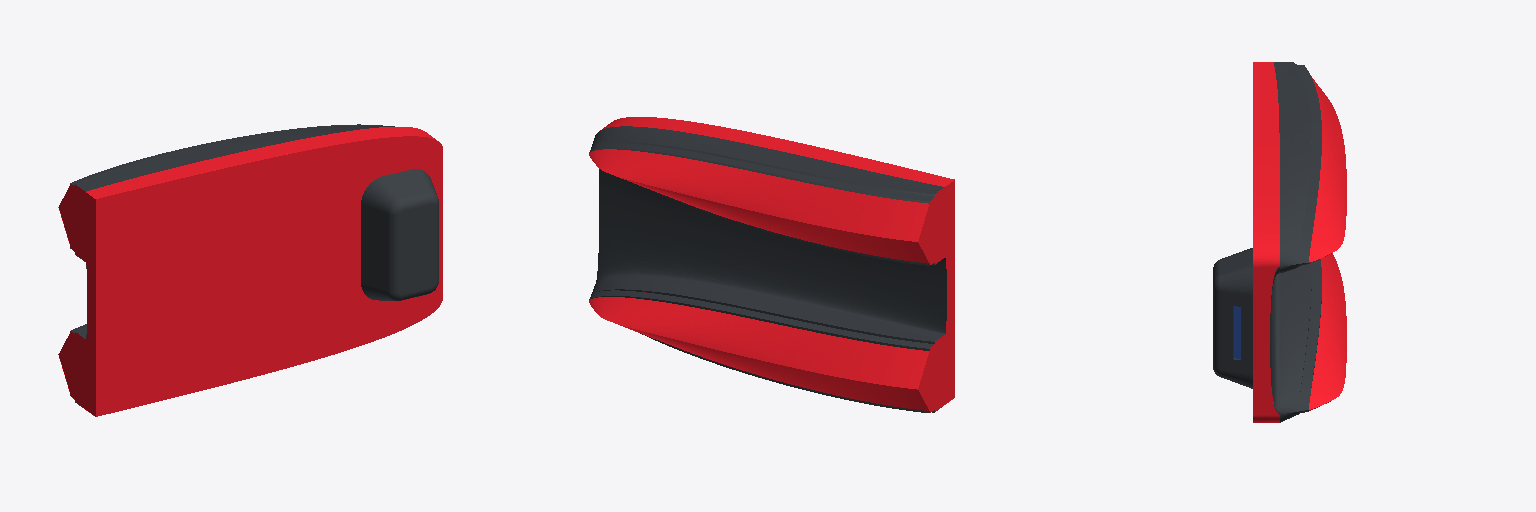
The model's file is USV.obj.
3 views of the same model, side by side, from view 1: azimuth 30°, elevation 25°; view 2: azimuth 150°, elevation 25°; view 3: azimuth 270°, elevation 25° (orthographic).
Visible parts, largest first — view 1: mesh24, mesh46, mesh41, mesh48, mesh9, mesh43, mesh45, mesh7, mesh8, mesh6, mesh0; view 2: mesh34, mesh31, mesh29, mesh35, mesh48, mesh28, mesh27, mesh50, mesh41, mesh43, mesh45, mesh30 (+7 smaller); view 3: mesh48, mesh41, mesh31, mesh29, mesh28, mesh17, mesh30, mesh39, mesh44, mesh47, mesh34, mesh1 (+1 smaller).
Boxes of the visible parts, x1=… form: mesh24: x1=96, y1=136, x2=442, y2=307; mesh46: x1=96, y1=224, x2=442, y2=416; mesh41: x1=86, y1=127, x2=435, y2=198; mesh48: x1=76, y1=125, x2=394, y2=191; mesh9: x1=400, y1=204, x2=433, y2=294; mesh43: x1=59, y1=302, x2=95, y2=416; mesh45: x1=59, y1=184, x2=95, y2=307; mesh7: x1=361, y1=205, x2=387, y2=291; mesh8: x1=388, y1=214, x2=399, y2=292; mesh6: x1=361, y1=176, x2=398, y2=213; mesh0: x1=383, y1=170, x2=426, y2=198; mesh34: x1=596, y1=210, x2=946, y2=333; mesh31: x1=589, y1=149, x2=928, y2=241; mesh29: x1=589, y1=297, x2=928, y2=389; mesh35: x1=599, y1=169, x2=946, y2=294; mesh48: x1=591, y1=126, x2=944, y2=193; mesh28: x1=591, y1=276, x2=944, y2=341; mesh27: x1=616, y1=176, x2=929, y2=263; mesh50: x1=615, y1=323, x2=928, y2=410; mesh41: x1=600, y1=117, x2=954, y2=186; mesh43: x1=918, y1=289, x2=954, y2=412; mesh45: x1=918, y1=180, x2=954, y2=293; mesh30: x1=590, y1=143, x2=933, y2=200; mesh48: x1=1274, y1=62, x2=1311, y2=266; mesh41: x1=1253, y1=62, x2=1279, y2=266; mesh31: x1=1309, y1=76, x2=1346, y2=261; mesh29: x1=1309, y1=253, x2=1346, y2=409; mesh28: x1=1279, y1=263, x2=1311, y2=413; mesh17: x1=1220, y1=292, x2=1252, y2=373; mesh30: x1=1296, y1=64, x2=1321, y2=263; mesh39: x1=1298, y1=259, x2=1321, y2=411; mesh44: x1=1253, y1=341, x2=1278, y2=414; mesh47: x1=1253, y1=267, x2=1277, y2=340; mesh34: x1=1270, y1=274, x2=1279, y2=414; mesh1: x1=1220, y1=263, x2=1252, y2=296.
Size of the model in its own units: 2.29 by 1.37 by 0.762.